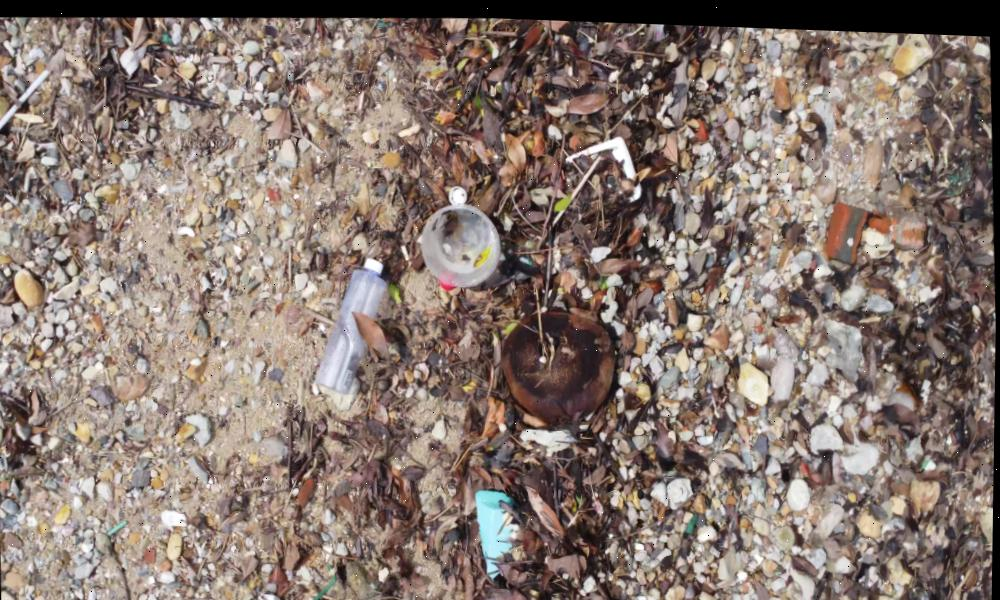plastic bottle: (311, 249, 392, 398)
plastic container: (420, 197, 504, 295)
